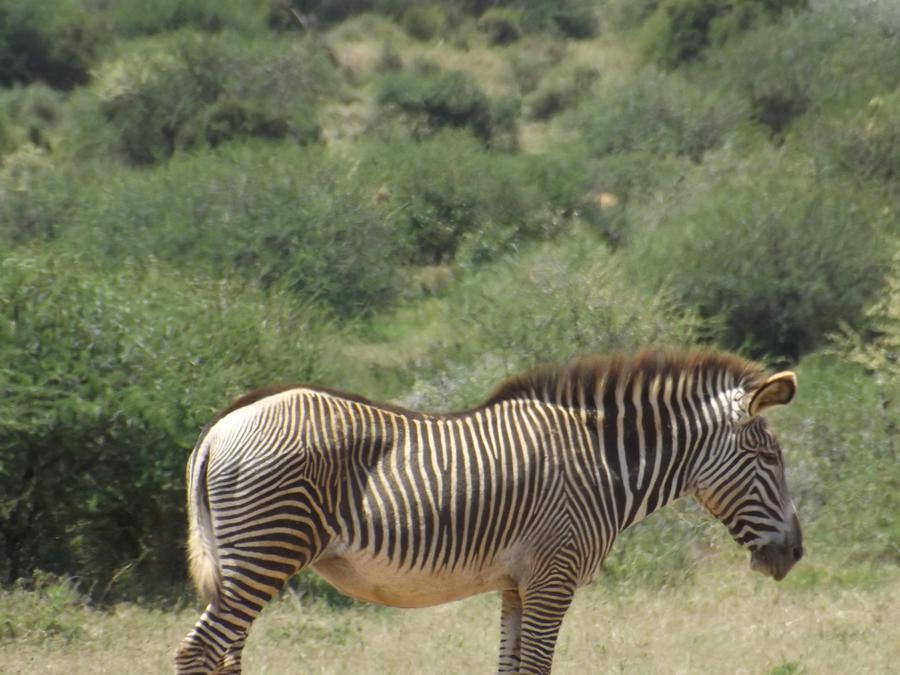zebra_grevys: (199, 382, 578, 590)
